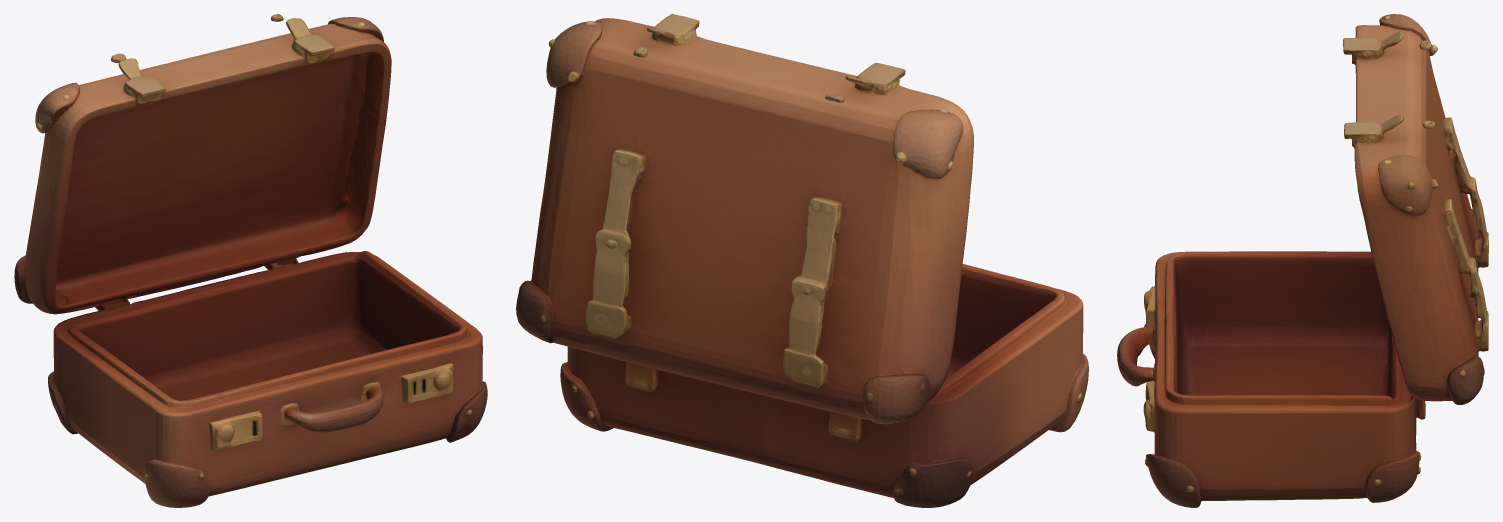
Rendered from suitcase.glb.
The picture shows the model from 3 angles, left to right: view 1: azimuth 30°, elevation 25°; view 2: azimuth 150°, elevation 25°; view 3: azimuth 270°, elevation 25°; orthographic projection. The views are drawn at different scales.
Visible parts, largest first — view 1: world; view 2: world; view 3: world.
Boxes of the visible parts, bbox=[...] form: world: bbox=[14, 14, 487, 507]; world: bbox=[516, 14, 1088, 507]; world: bbox=[1117, 14, 1488, 507].
Size of the model in its own units: 0.9979 by 0.9994 by 0.9361.
Materials: 1 (1 with a texture image).
